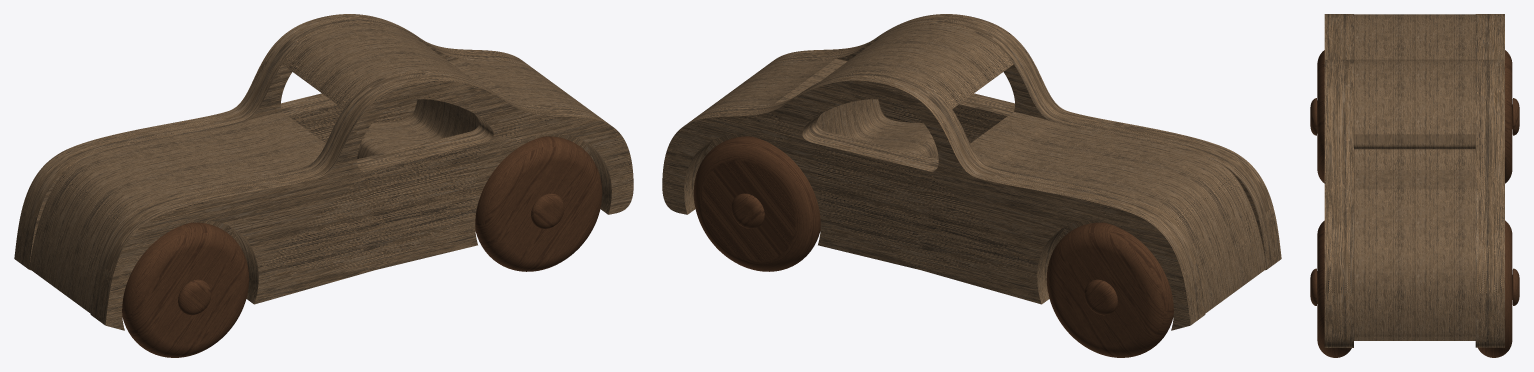
3 renders of one model, left to right at view 1: azimuth 30°, elevation 25°; view 2: azimuth 150°, elevation 25°; view 3: azimuth 270°, elevation 25°, orthographic.
Visible parts, largest first — view 1: Shape11_Material #7_0, Shape4_Material #6_0, Shape014_Material #7_0, ChamferCyl002, ChamferCyl003, ChamferCyl001_Material #5_0; view 2: Shape014_Material #7_0, Shape4_Material #6_0, Shape11_Material #7_0, ChamferCyl004, ChamferCyl005, ChamferCyl001_Material #5_0; view 3: Shape4_Material #6_0, Shape11_Material #7_0, Shape014_Material #7_0, ChamferCyl004, ChamferCyl002, ChamferCyl001_Material #5_0, ChamferCyl003, ChamferCyl005.
Part boxes in pixels (x1,y1,x2,y2): Shape11_Material #7_0: (90,70,633,330); Shape4_Material #6_0: (29,24,594,317); Shape014_Material #7_0: (14,14,534,270); ChamferCyl002: (475,136,602,271); ChamferCyl003: (122,222,249,357); ChamferCyl001_Material #5_0: (178,193,564,315); Shape014_Material #7_0: (662,70,1205,330); Shape4_Material #6_0: (701,24,1266,317); Shape11_Material #7_0: (761,14,1281,270); ChamferCyl004: (693,136,820,271); ChamferCyl005: (1046,222,1173,357); ChamferCyl001_Material #5_0: (731,193,1117,315); Shape4_Material #6_0: (1354,14,1475,340); Shape11_Material #7_0: (1324,14,1353,347); Shape014_Material #7_0: (1475,14,1504,347); ChamferCyl004: (1478,220,1512,357); ChamferCyl002: (1317,220,1351,357); ChamferCyl001_Material #5_0: (1310,98,1519,305); ChamferCyl003: (1317,50,1324,183); ChamferCyl005: (1505,50,1512,183).
Size of the model in its own units: 19.5 by 7.79 by 6.76.
Materials: 4 (3 with a texture image).
